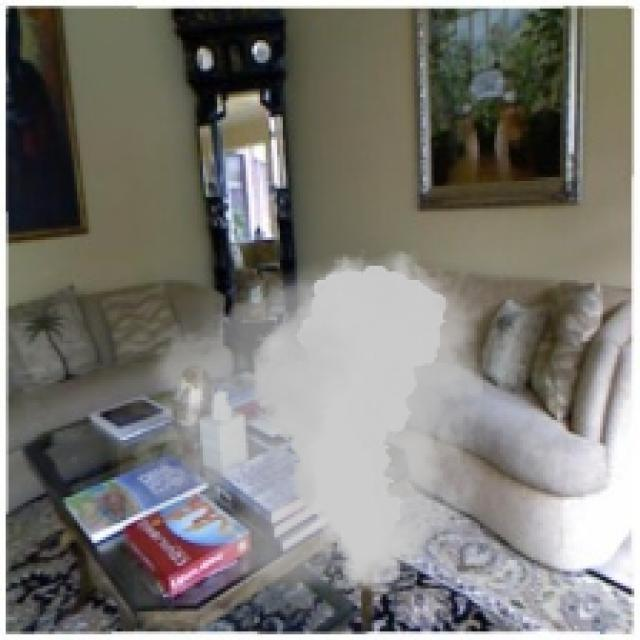Smoke: (108, 240, 514, 617)
